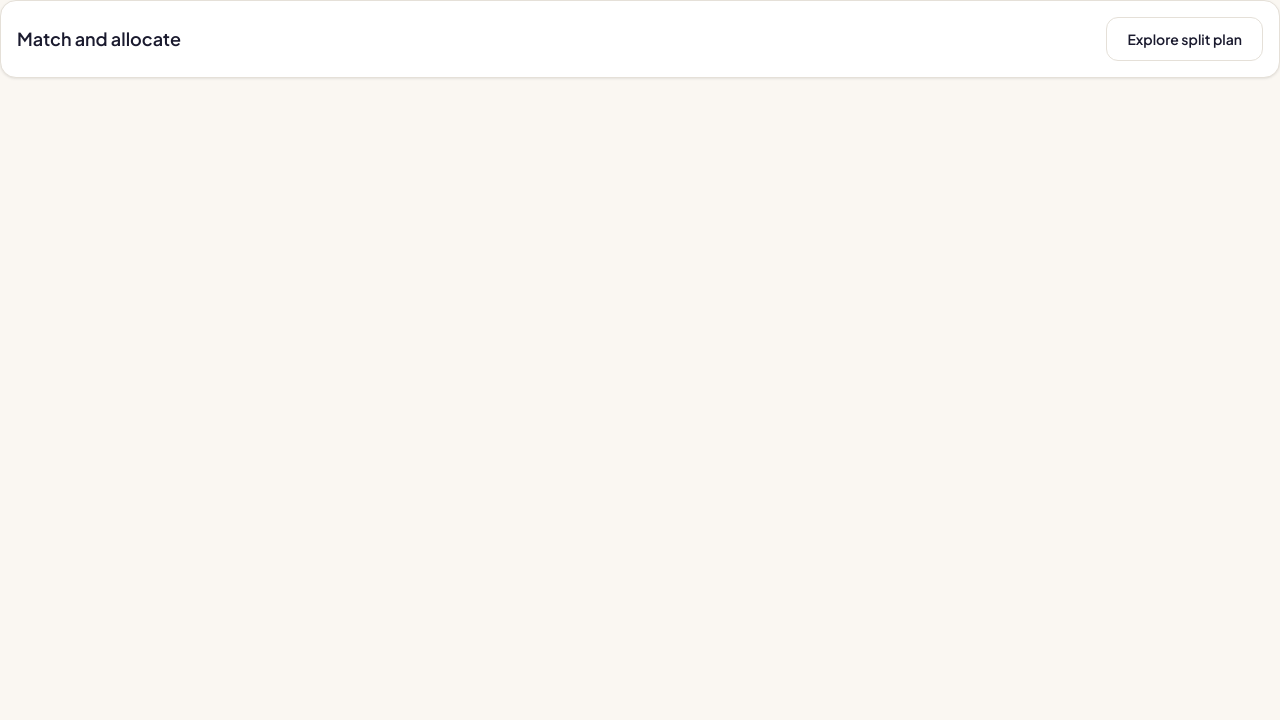
Test: Allocation puzzle controls › recalculates the posted plan when the donor changes an NGO’s capacity
The image size is (1280, 720).
Click the button "Explore split plan": x=1185, y=39 [1106, 17, 1263, 61]
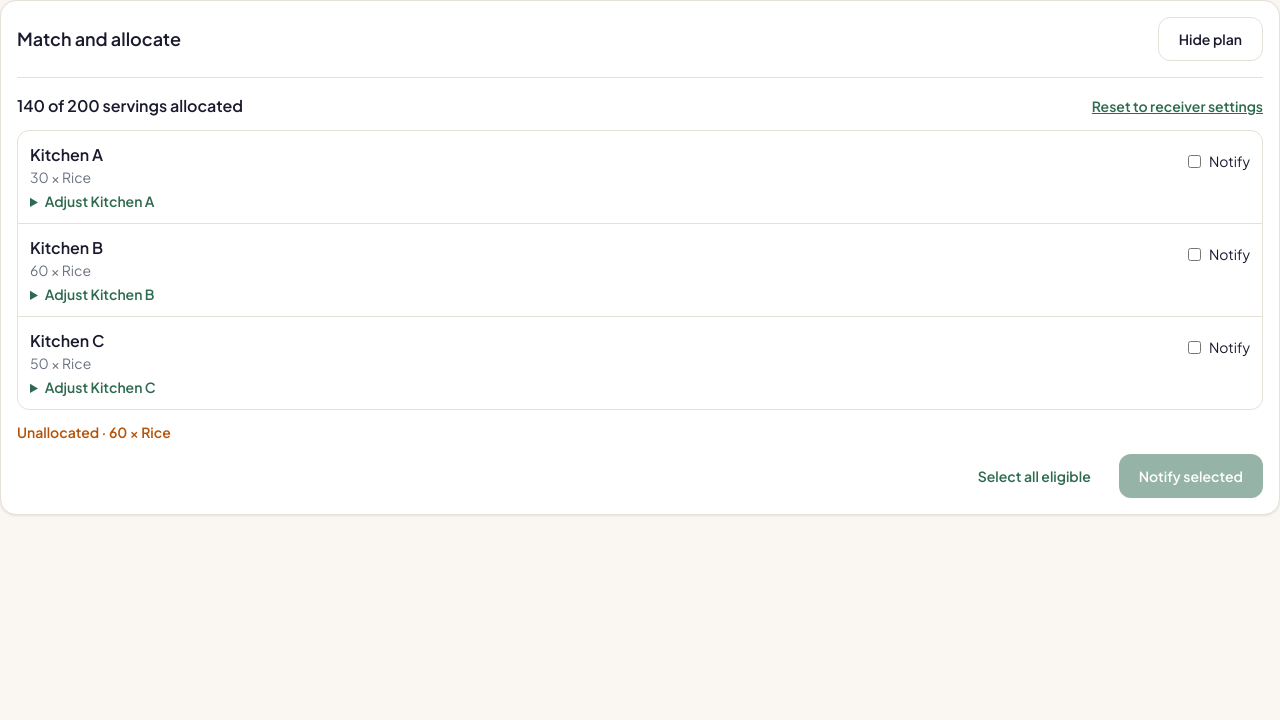
Expected: the text "140 of 200 servings allocated" is shown, [17, 94, 243, 118]
Click the heading "Adjust Kitchen C": x=100, y=387 [45, 378, 156, 396]
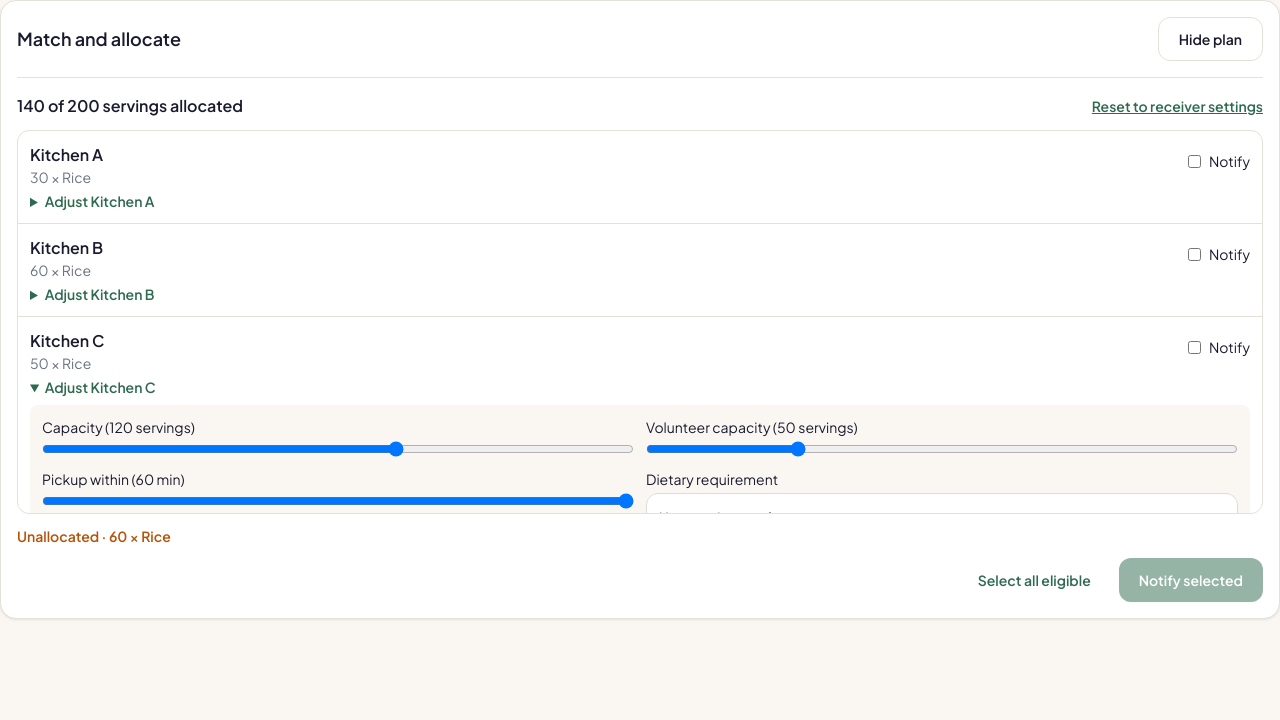
Set the slider labelled "Volunteer capacity (50 servings)" to "110": x=971, y=449 [646, 441, 1238, 457]
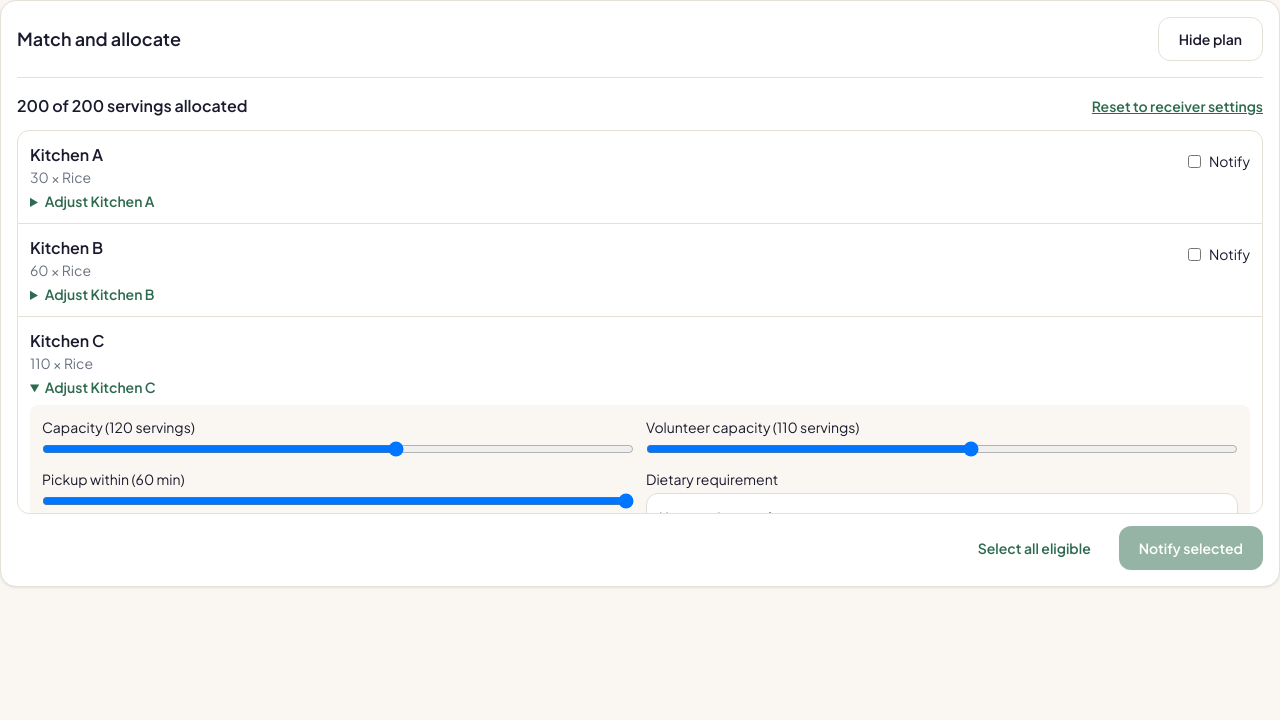
Expected: the text "200 of 200 servings allocated" is shown, [17, 94, 248, 118]
Click the button "Reset to receiver settings": x=1177, y=106 [1092, 96, 1263, 116]
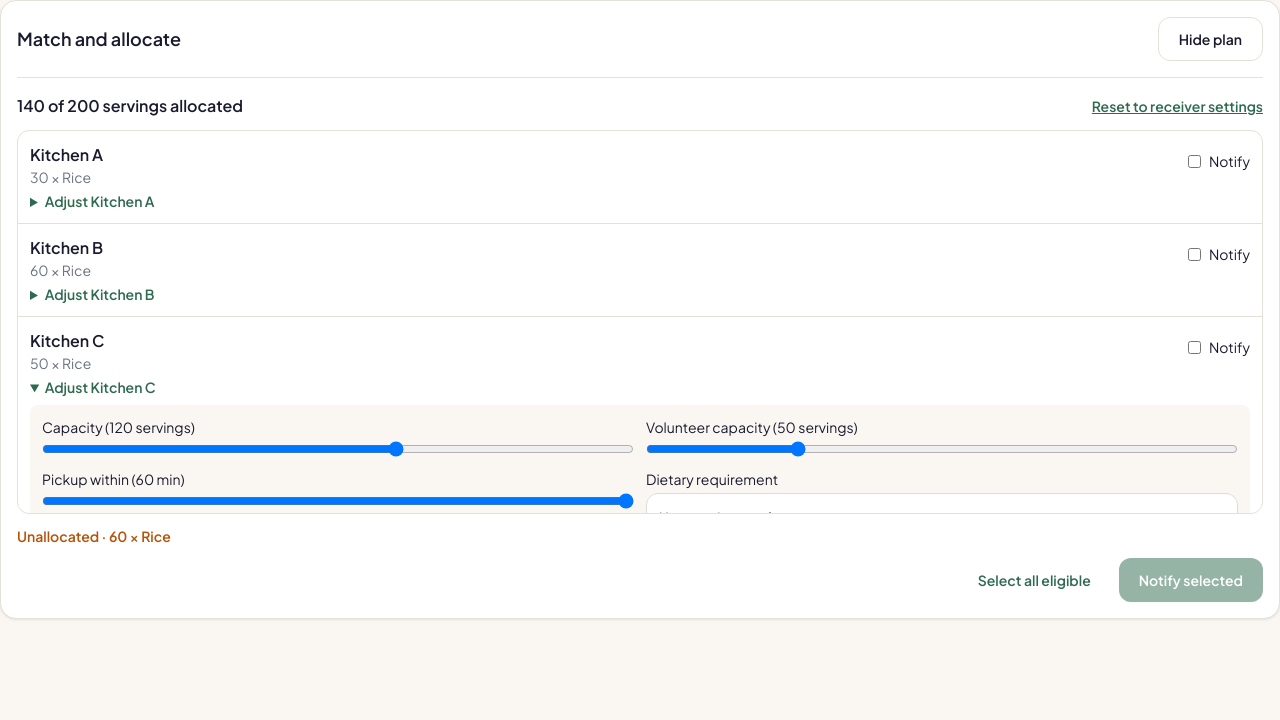
Expected: the text "140 of 200 servings allocated" is shown, [17, 94, 243, 118]
